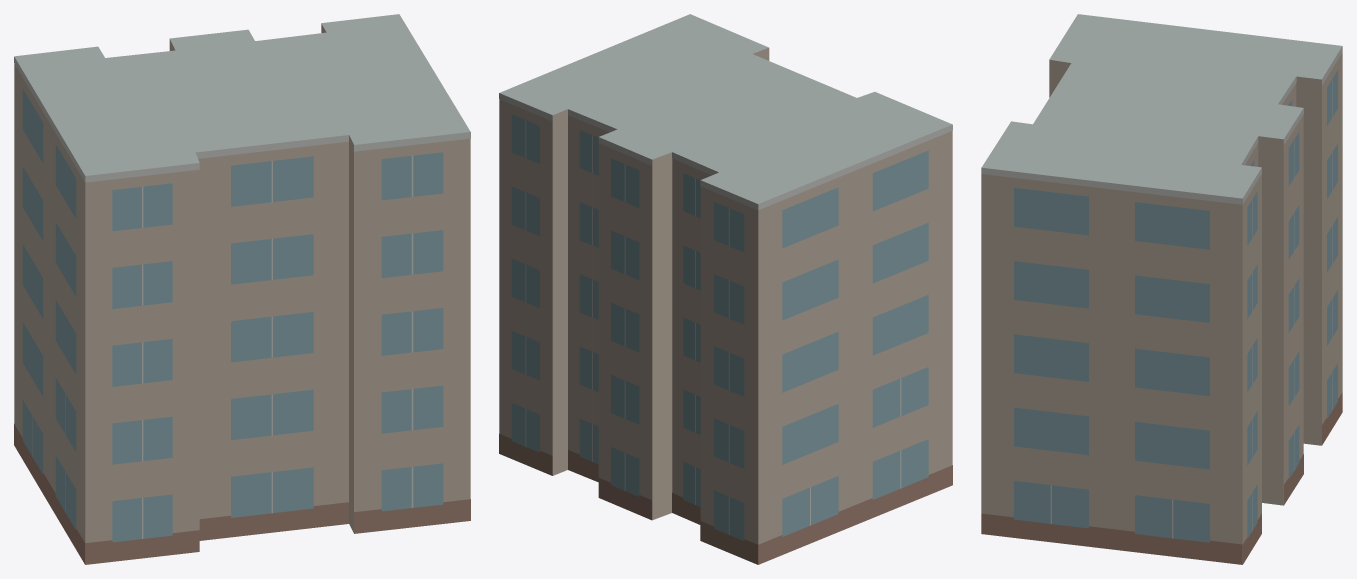
The model's file is survey-upis-32981604.glb.
The picture shows the model from 3 angles, left to right: view 1: azimuth 30°, elevation 25°; view 2: azimuth 150°, elevation 25°; view 3: azimuth 270°, elevation 25°; orthographic projection. The views are drawn at different scales.
Parts seen in each view (by area): view 1: survey-upis-32981604.tmp; view 2: survey-upis-32981604.tmp; view 3: survey-upis-32981604.tmp.
Boxes of the visible parts, left/top/right/bottom form: survey-upis-32981604.tmp: left=14, top=14, right=470, bottom=564; survey-upis-32981604.tmp: left=499, top=14, right=952, bottom=564; survey-upis-32981604.tmp: left=981, top=14, right=1342, bottom=564.
Bounding box in the file's own units: 15.47 × 14.3 × 12.79.
